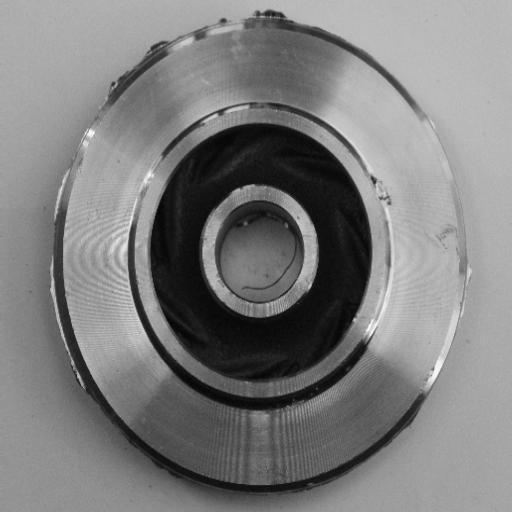casting_with_burr: (47, 6, 476, 498)
crack: (365, 164, 406, 219)
scratch: (128, 150, 172, 244), (187, 96, 275, 128)
